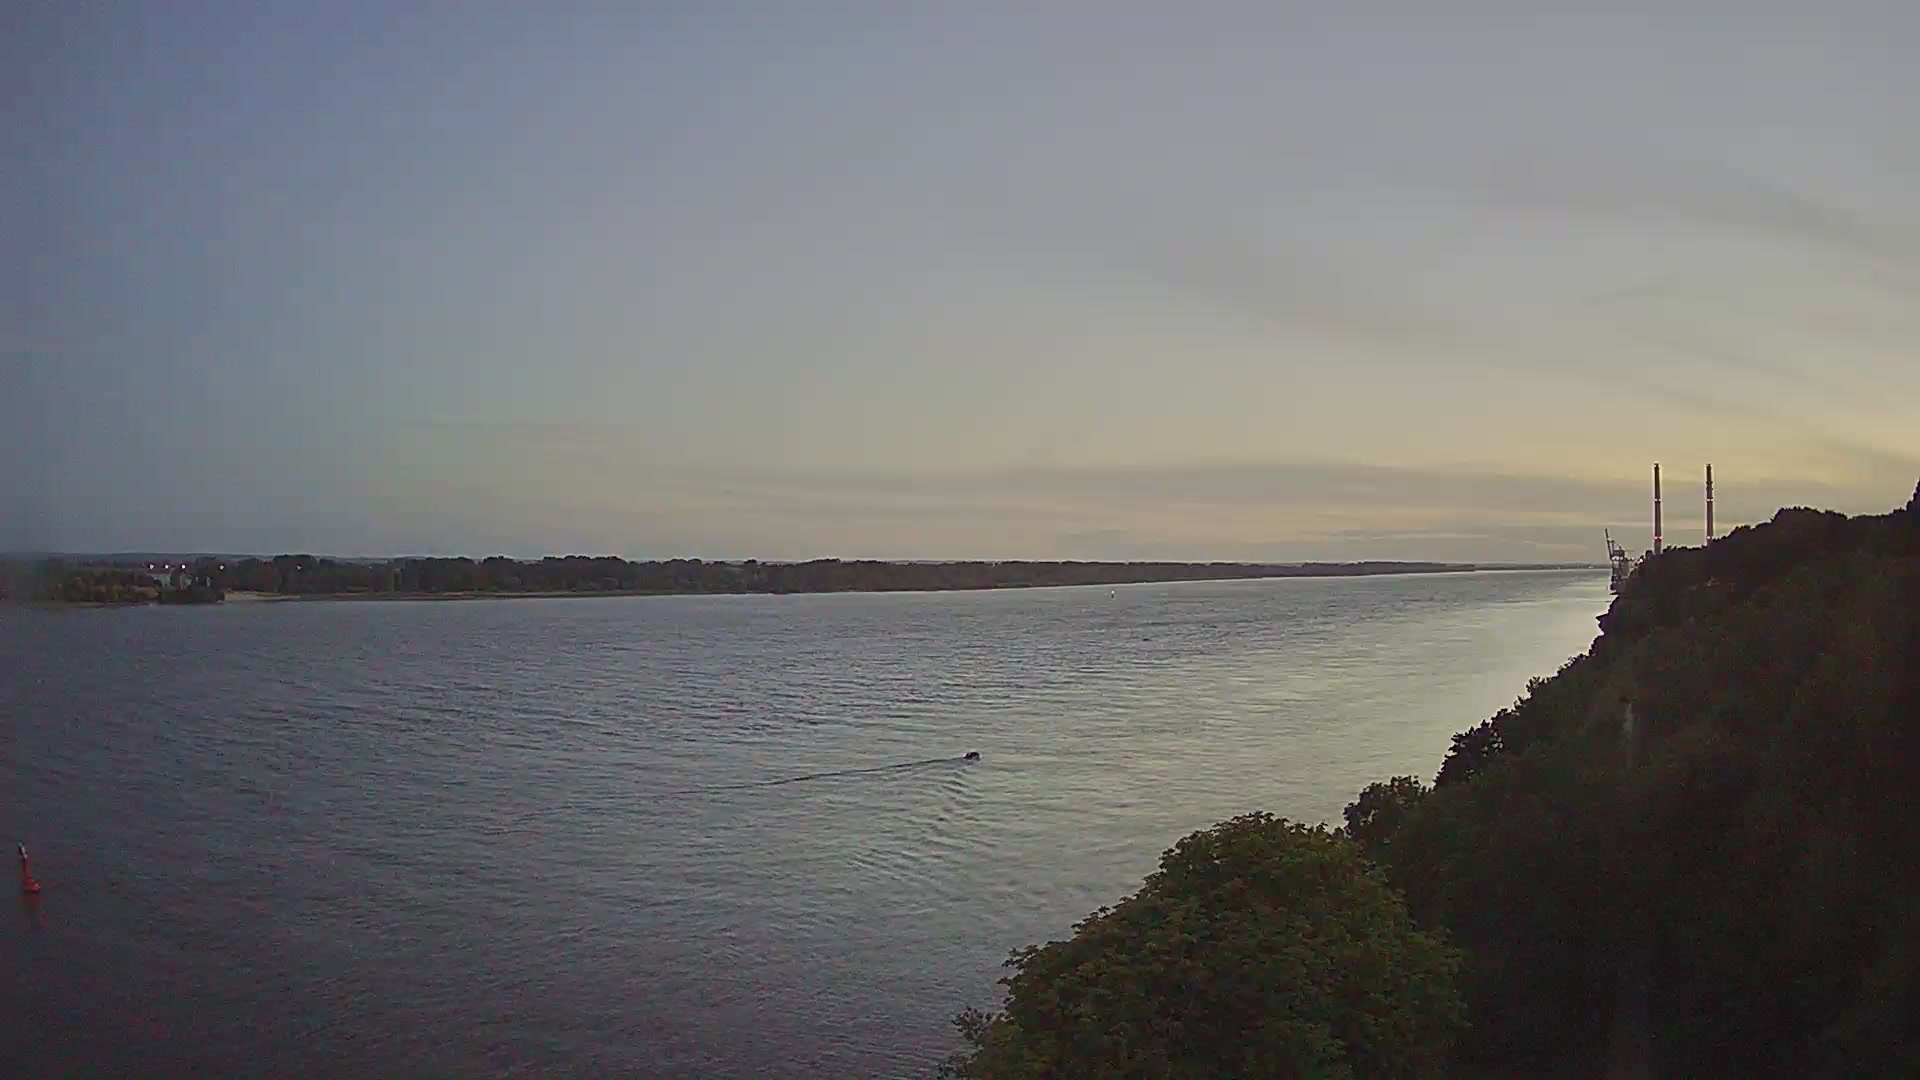sea: (961, 750, 978, 761)
